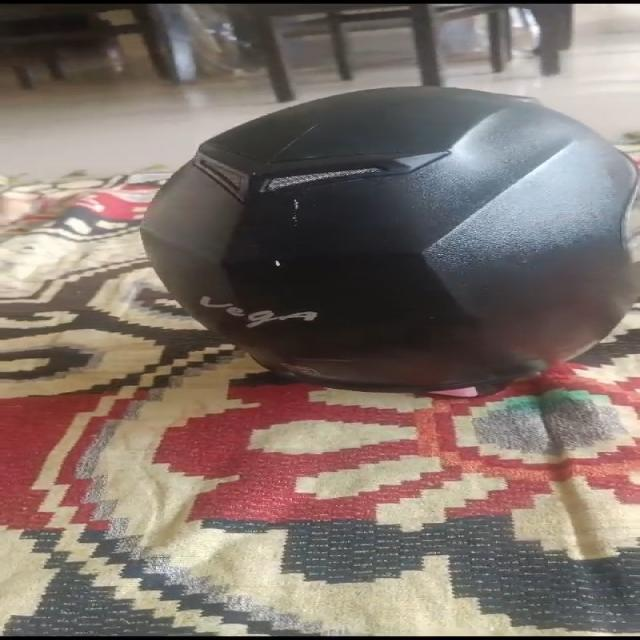Helmet: (140, 87, 640, 393)
